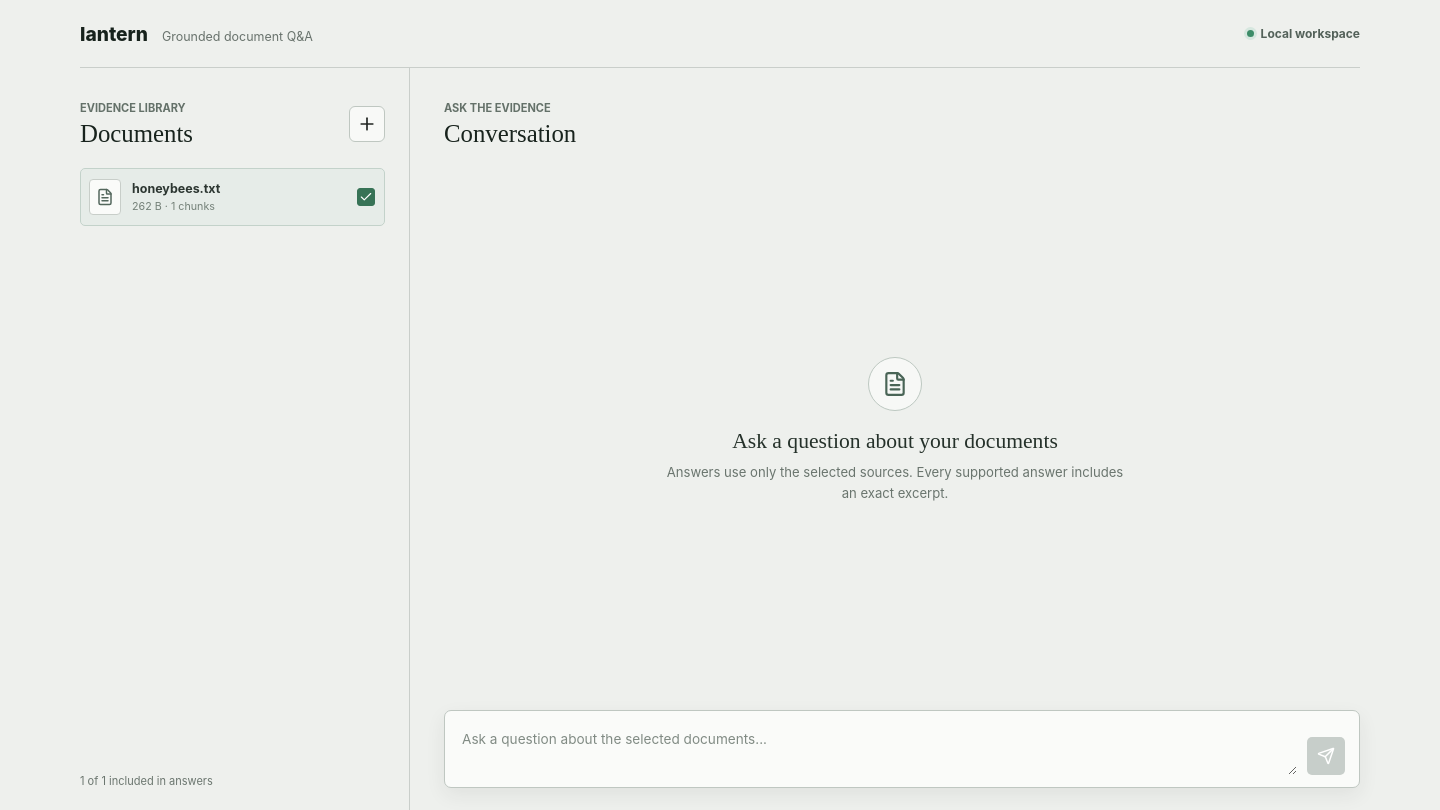
Test: grounded conversation › shows insufficient evidence without rendering sources
Expected: the text "honeybees.txt" is shown, [132, 181, 220, 196]
Type "What is the capital of France?" into the text box labelled "question". click: (877, 750)
box: [457, 724, 1297, 775]
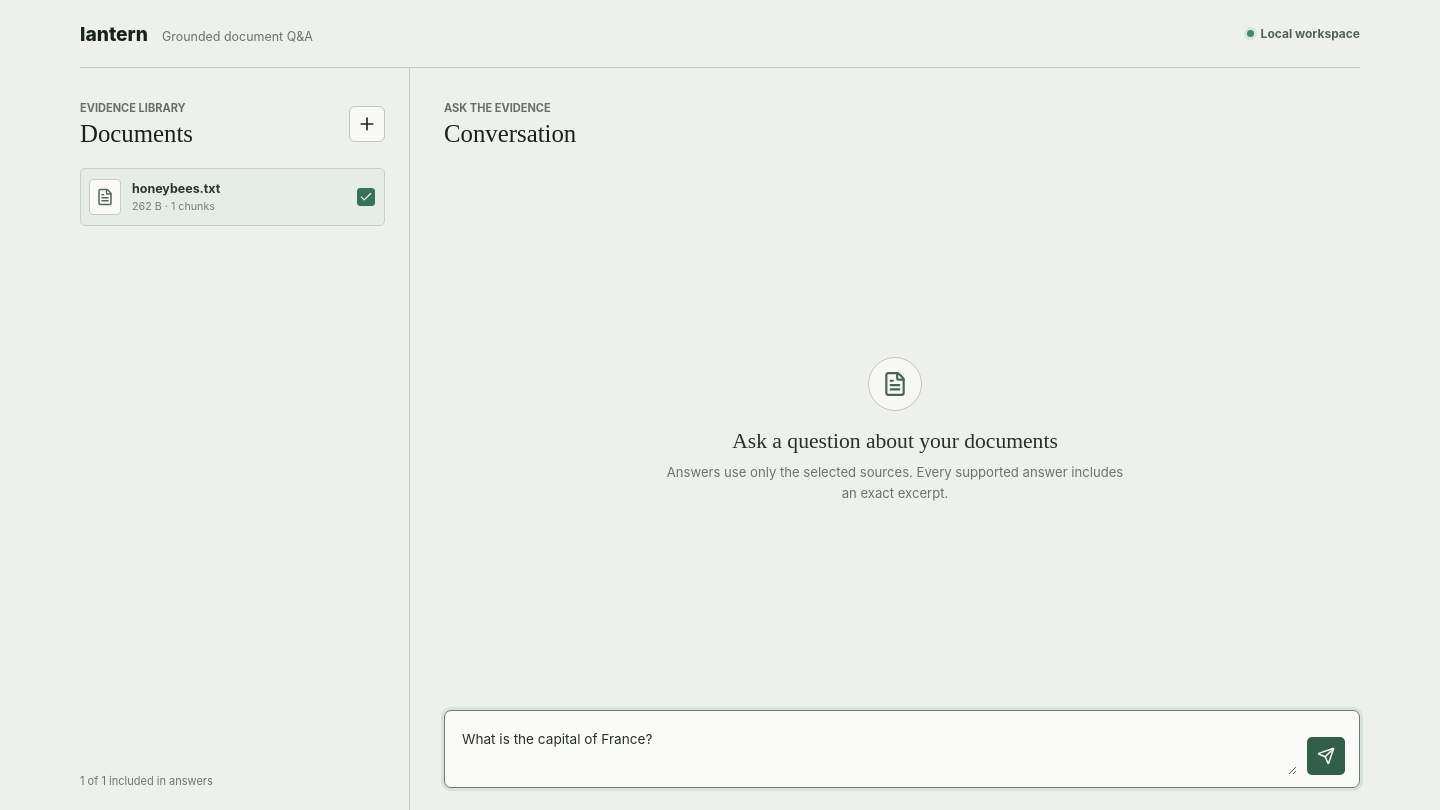
Click the button named "Send question". click: (1326, 756)
box: [1307, 737, 1345, 775]
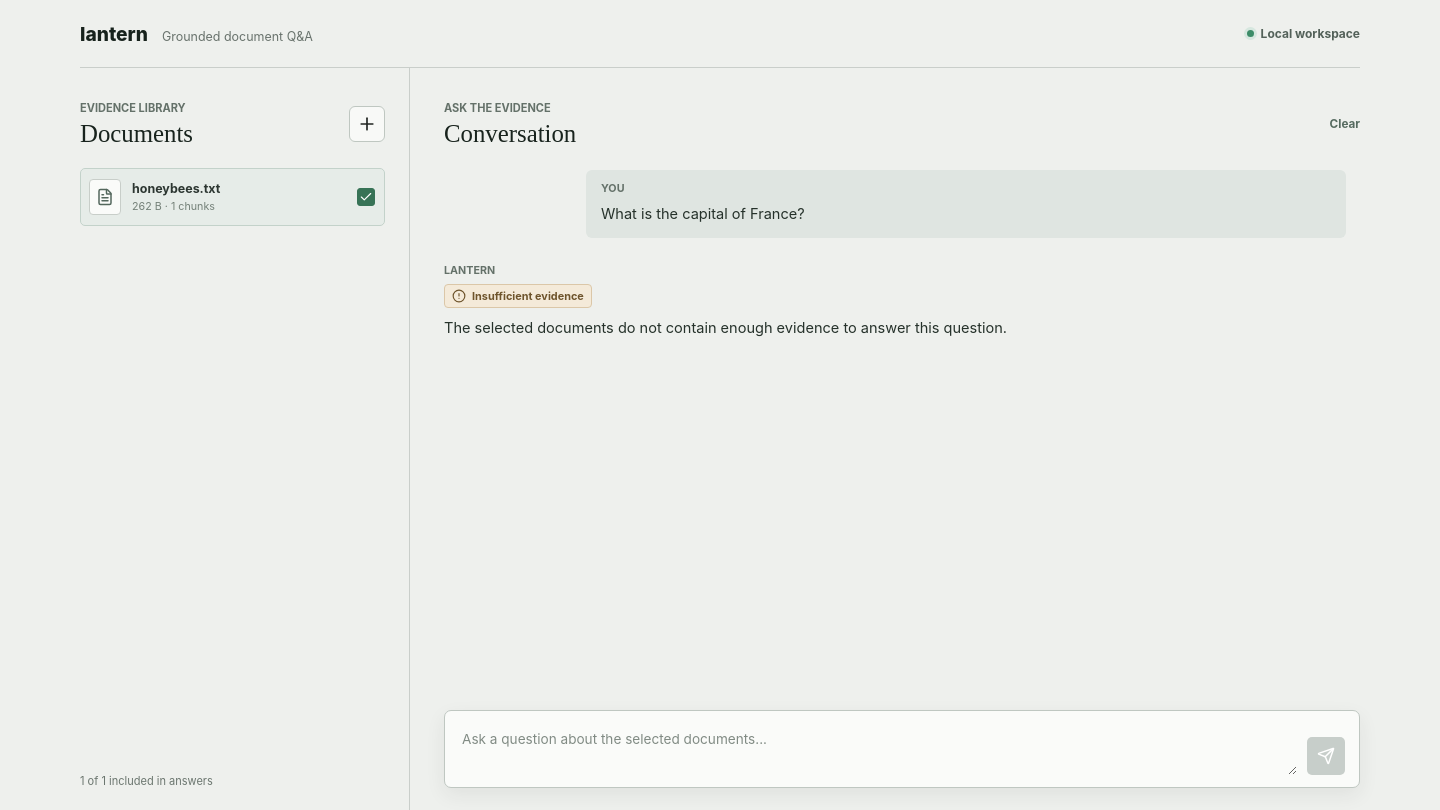
Now the text "Insufficient evidence" is shown, box [444, 284, 592, 308]
Now the text "sources" is gone
